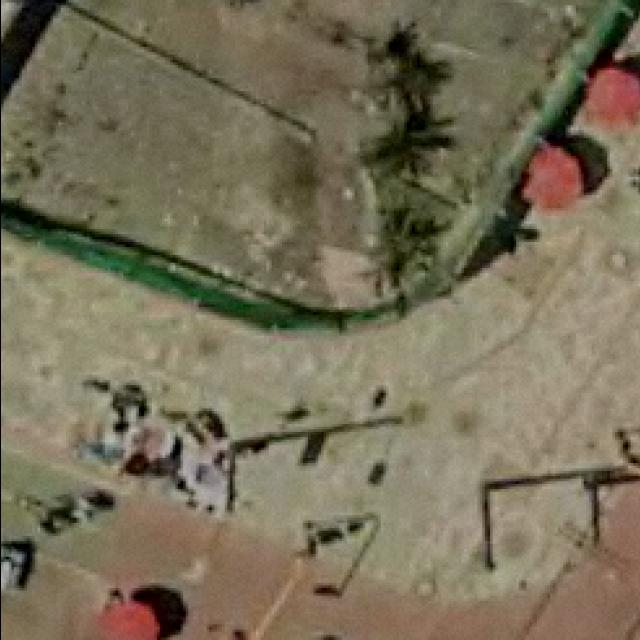vendedor_ambulante: (519, 146, 585, 215), (583, 60, 640, 133), (97, 590, 167, 640)
